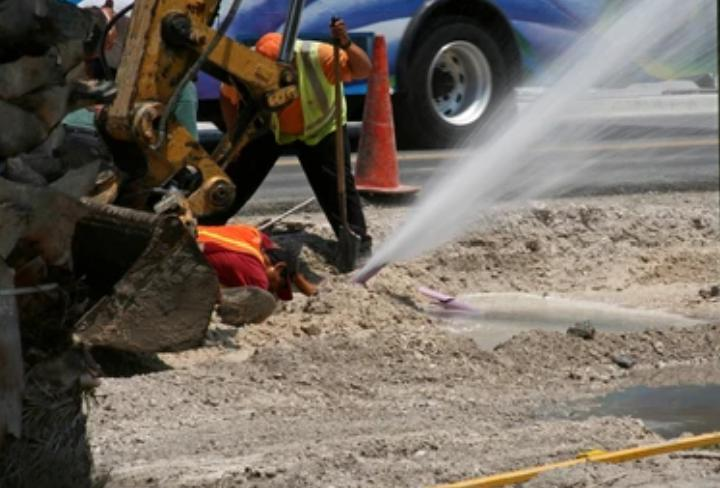pipe burst: (347, 0, 720, 286)
water accumulation: (424, 287, 710, 350), (568, 380, 720, 442)
